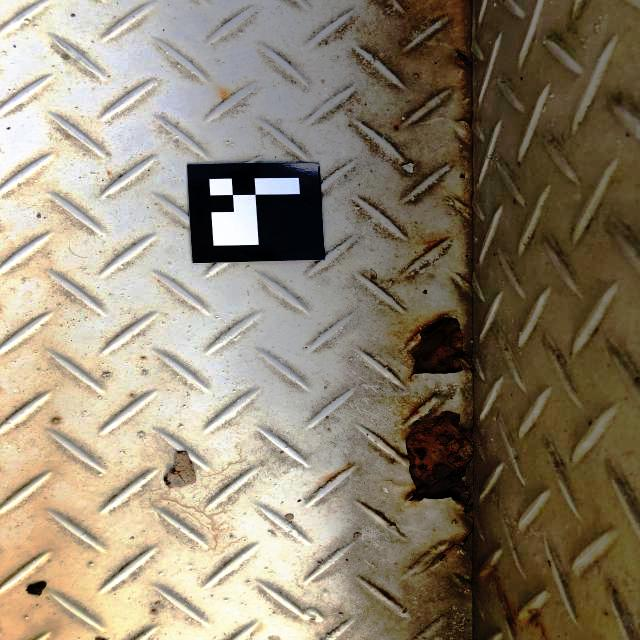Corrosion: (398, 407, 477, 515), (409, 317, 474, 378), (457, 49, 475, 68)
